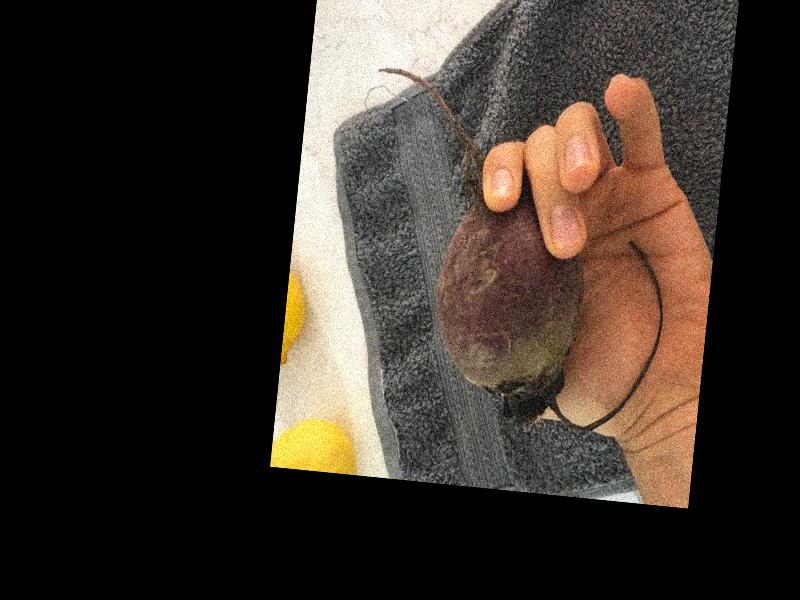Beet: (345, 67, 685, 435)
